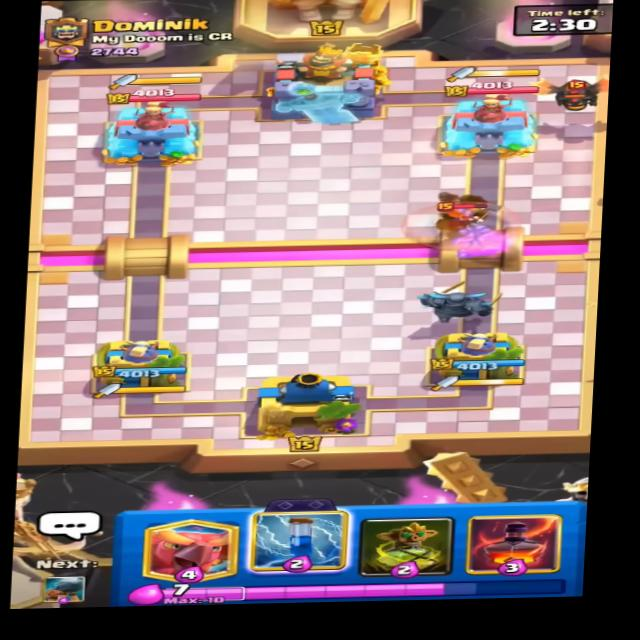Lavahound: (529, 69, 610, 116)
Valk: (436, 198, 496, 234)
